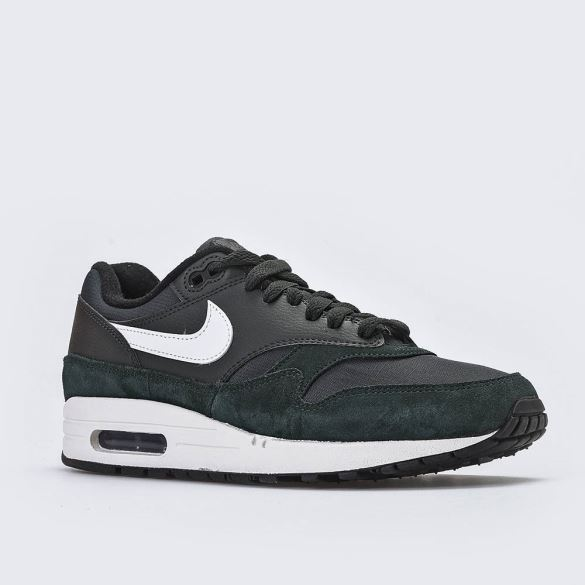nike: (130, 306, 242, 366)
